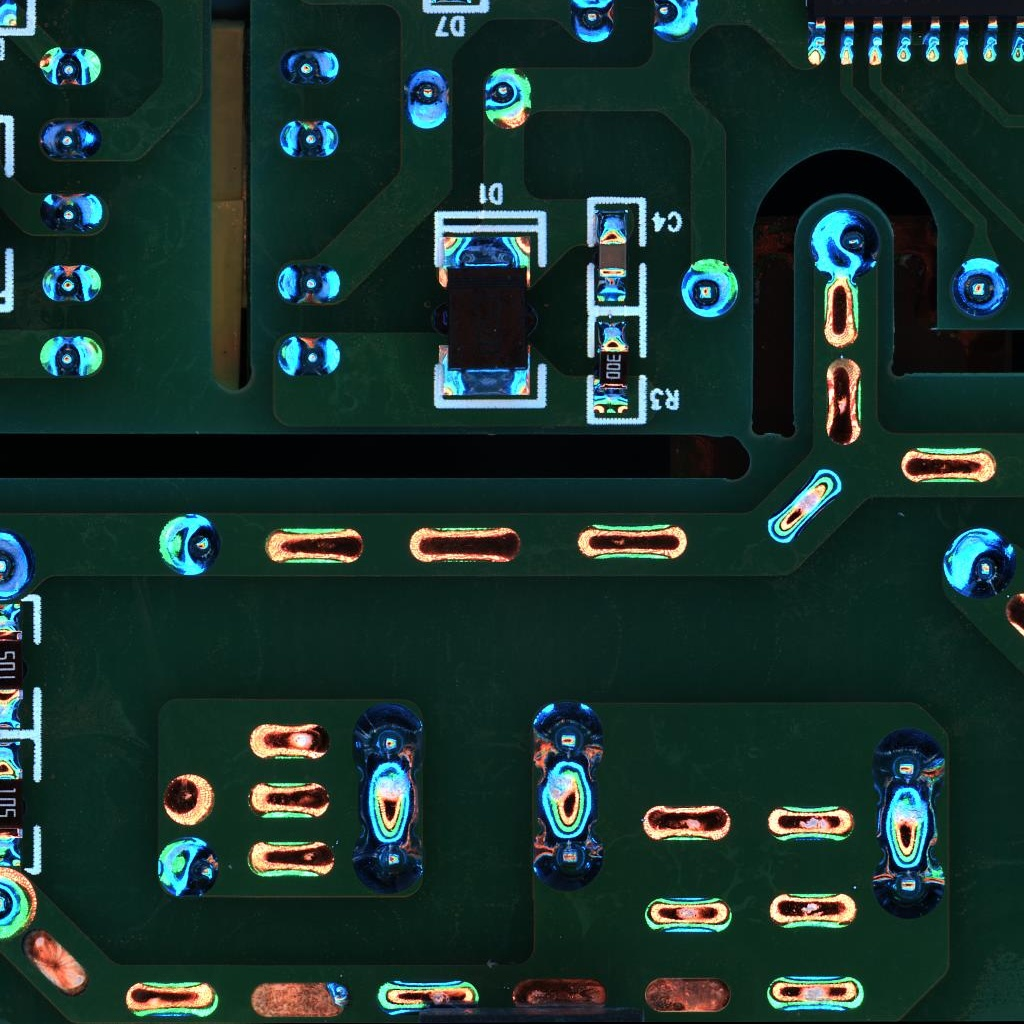spot: (871, 727, 947, 808), (350, 702, 428, 778), (805, 208, 884, 283), (530, 700, 606, 777), (939, 525, 1016, 599), (871, 852, 948, 922), (530, 821, 606, 891), (353, 826, 430, 895), (151, 836, 220, 900), (155, 511, 220, 578), (678, 255, 740, 322), (949, 257, 1012, 318), (481, 64, 531, 133), (1, 865, 39, 947), (39, 334, 106, 380), (275, 333, 343, 378), (36, 191, 105, 234), (403, 67, 450, 130), (37, 44, 103, 88), (1, 530, 37, 608), (277, 117, 342, 160), (39, 119, 103, 161), (280, 46, 345, 86), (277, 264, 340, 305), (39, 264, 103, 304), (648, 1, 699, 46), (568, 1, 617, 43)
